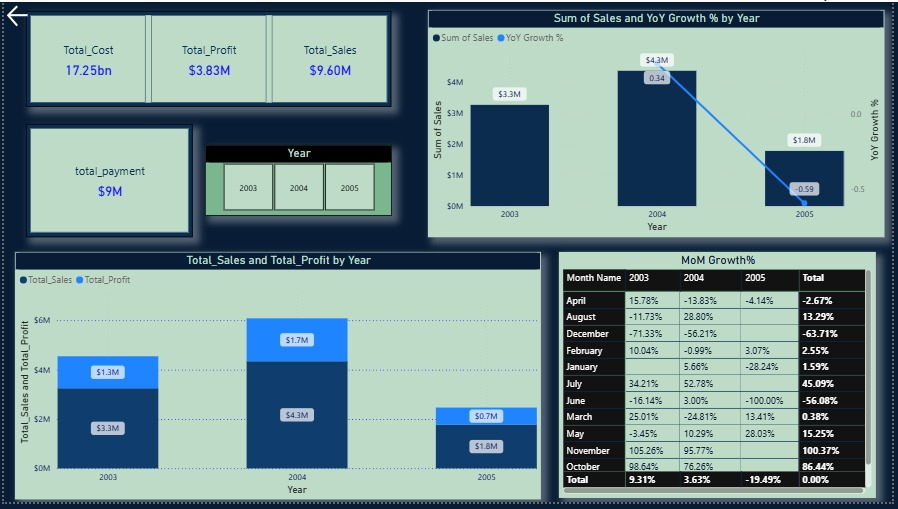

The dashboard page shown, as its layout file describes it:
{"tool":"powerbi","page":{"name":"Finance dashboard","canvas":[1280,720],"ordinal":3},"visuals":[{"type":"lineStackedColumnComboChart","fields":{"Y":["Order Details.Total_Sales","Order Details.Total_Profit"],"Category":["Calendar.Year"]},"box":[15.1,359.8,757.4,356],"z":0},{"type":"cardVisual","fields":{"Data":["Order Details.Total_Cost","Order Details.Total_Profit","Order Details.Total_Sales"]},"box":[32.2,13.3,526.4,138.2],"z":1000},{"type":"pivotTable","title":"MoM Growth%","fields":{"Rows":["Calendar.Month Name"],"Columns":["Calendar.Year"],"Values":["Order Details.MoM Growth %"]},"box":[799.1,359.8,456.3,354.1],"z":2000},{"type":"lineClusteredColumnComboChart","fields":{"Category":["Calendar.Year"],"Y2":["Order Details.YoY Growth %"],"Y":["Sum(Order Details.Sales)"]},"box":[611.1,11.4,656.6,326.7],"z":3000},{"type":"cardVisual","fields":{"Data":["Payments.total_payment"]},"box":[32.2,176.1,240.5,162.8],"z":4000},{"type":"slicer","title":"Year","fields":{"Values":["Orders.Order_Year"]},"box":[289.7,206.4,268.9,102.2],"z":5000},{"type":"actionButton","box":[0,0,100,40],"z":6000}]}

Visuals, with their boxes in screenshot pixels (x1, y1, x2, y2), scaled from the page's 1280x720 canvas onto the 898x509 screenshot:
lineStackedColumnComboChart - Order Details.Total_Sales x Order Details.Total_Profit: 11,254,542,506
cardVisual - Order Details.Total_Cost x Order Details.Total_Profit: 23,9,392,107
"MoM Growth%" pivotTable: 561,254,881,505
lineClusteredColumnComboChart - Calendar.Year x Order Details.YoY Growth %: 429,8,889,239
cardVisual - Payments.total_payment: 23,124,191,240
"Year" slicer: 203,146,392,218
actionButton: 0,0,70,28
